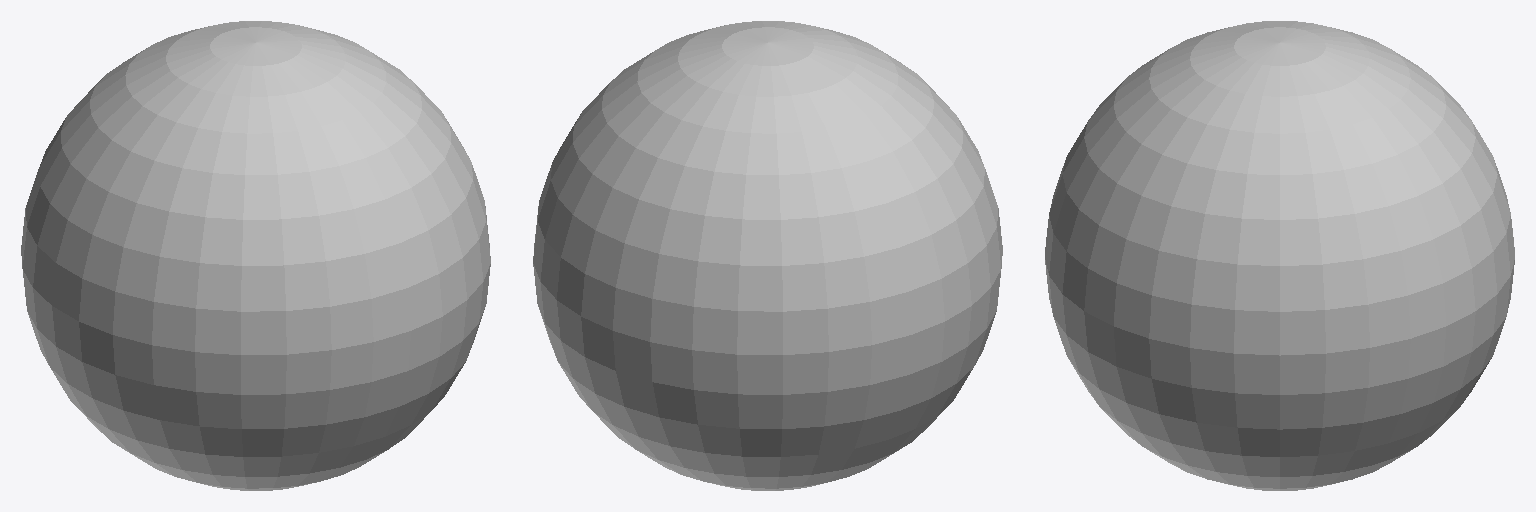
The model's file is ball3.obj.
The picture shows the model from 3 angles: view 1: azimuth 30°, elevation 25°; view 2: azimuth 150°, elevation 25°; view 3: azimuth 270°, elevation 25°; orthographic projection.
Visible parts, largest first — view 1: Sphere; view 2: Sphere; view 3: Sphere.
Part boxes in pixels (left/top/right/bottom): Sphere: left=21, top=21, right=490, bottom=490; Sphere: left=533, top=21, right=1002, bottom=490; Sphere: left=1045, top=21, right=1514, bottom=490.
Size of the model in its own units: 2 by 2 by 2.